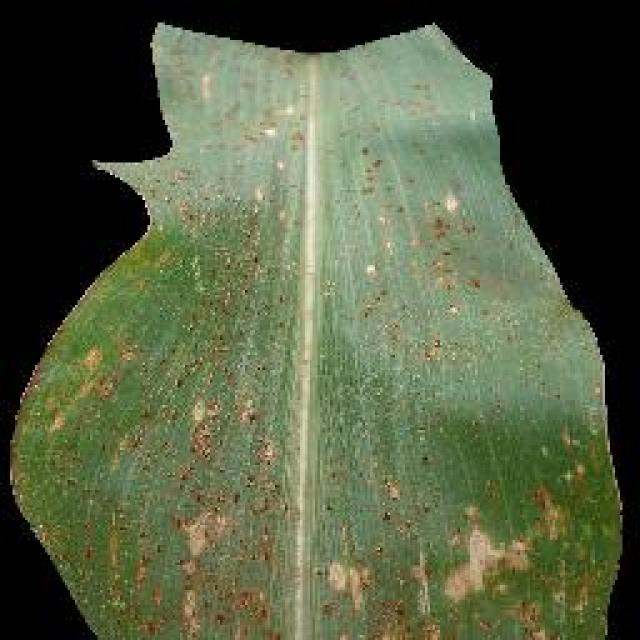Corn Common Rust: (148, 225, 564, 640)
